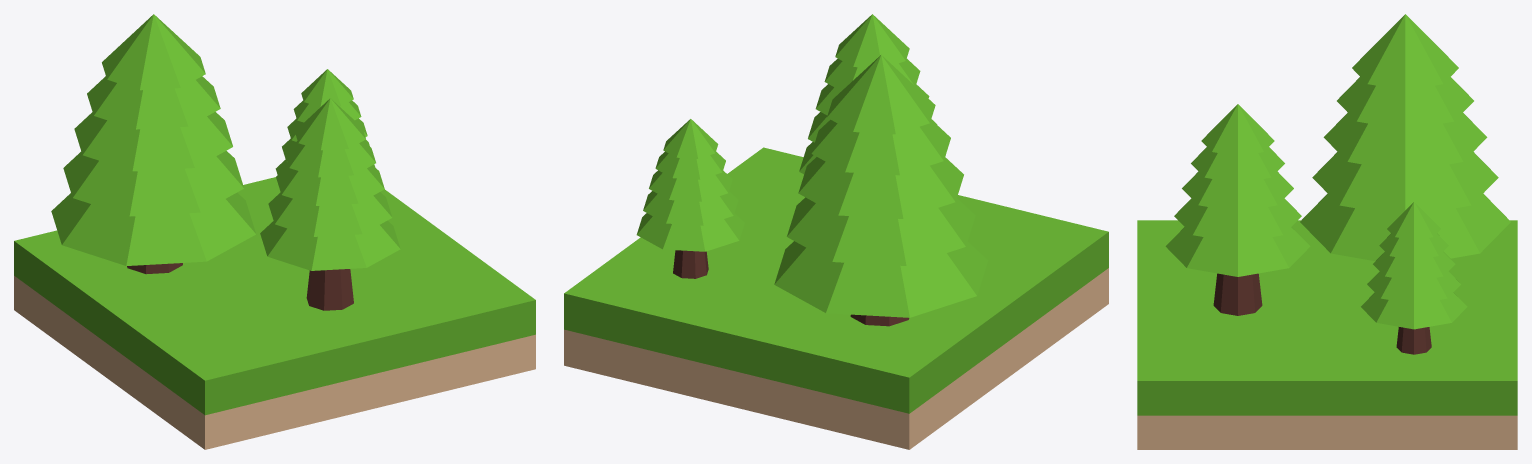
The model's file is TreeTile3.fbx.
3 views of the same model, side by side, from view 1: azimuth 30°, elevation 25°; view 2: azimuth 150°, elevation 25°; view 3: azimuth 270°, elevation 25° (orthographic). The views are drawn at different scales.
Visible parts, largest first — view 1: Cube, Cylinder, Cylinder.001, Cylinder.002; view 2: Cube, Cylinder, Cylinder.002, Cylinder.001; view 3: Cube, Cylinder, Cylinder.001, Cylinder.002.
Boxes of the visible parts, x1=… form: Cube: x1=14, y1=177, x2=535, y2=449; Cylinder: x1=51, y1=14, x2=255, y2=274; Cylinder.001: x1=260, y1=98, x2=400, y2=310; Cylinder.002: x1=275, y1=69, x2=374, y2=174; Cube: x1=564, y1=147, x2=1108, y2=449; Cylinder: x1=774, y1=55, x2=988, y2=326; Cylinder.002: x1=636, y1=119, x2=744, y2=278; Cylinder.001: x1=799, y1=14, x2=937, y2=174; Cube: x1=1137, y1=220, x2=1517, y2=449; Cylinder: x1=1300, y1=14, x2=1510, y2=261; Cylinder.001: x1=1165, y1=104, x2=1310, y2=315; Cylinder.002: x1=1361, y1=202, x2=1467, y2=354.
Size of the model in its own units: 103 by 91.56 by 100.
